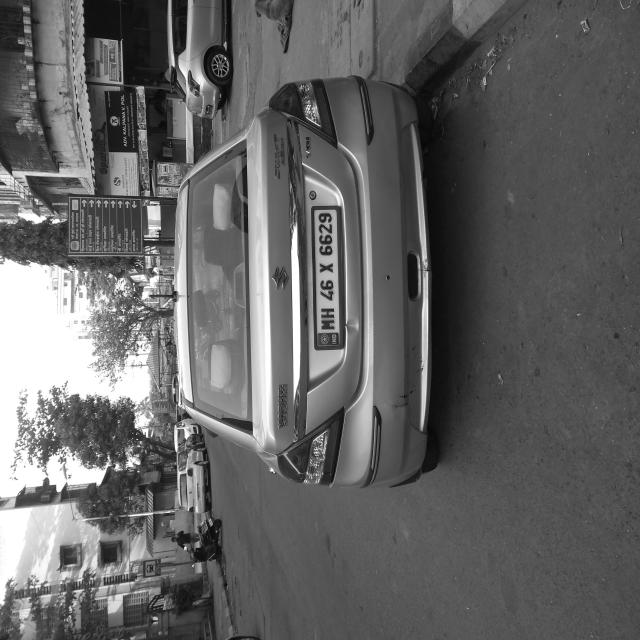car: (106, 228, 437, 609)
license-plate: (220, 421, 325, 462)
